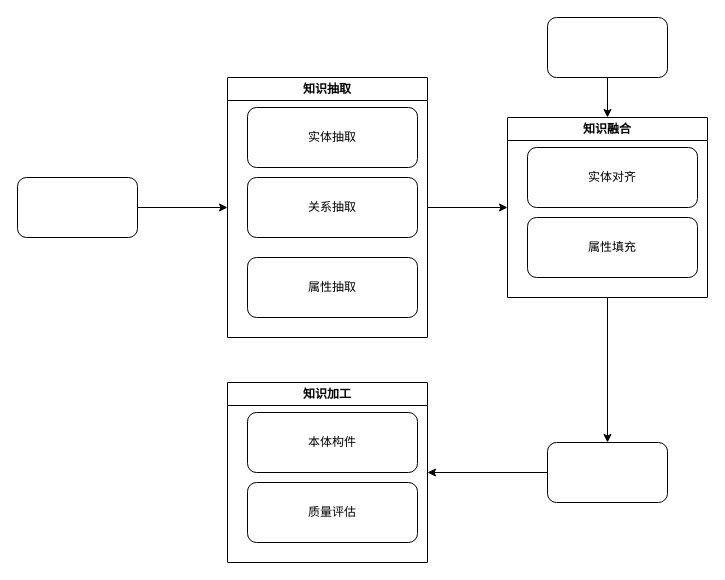
Some shapes in this 725 by 580 pixel diagram are drawn without their labels. The centre of each missing label's shape, as x and y in pixels:
"数据层" belongs at point (607, 472).
"结构化数据" belongs at point (607, 47).
"非结构化/半结构化数据" belongs at point (77, 207).
